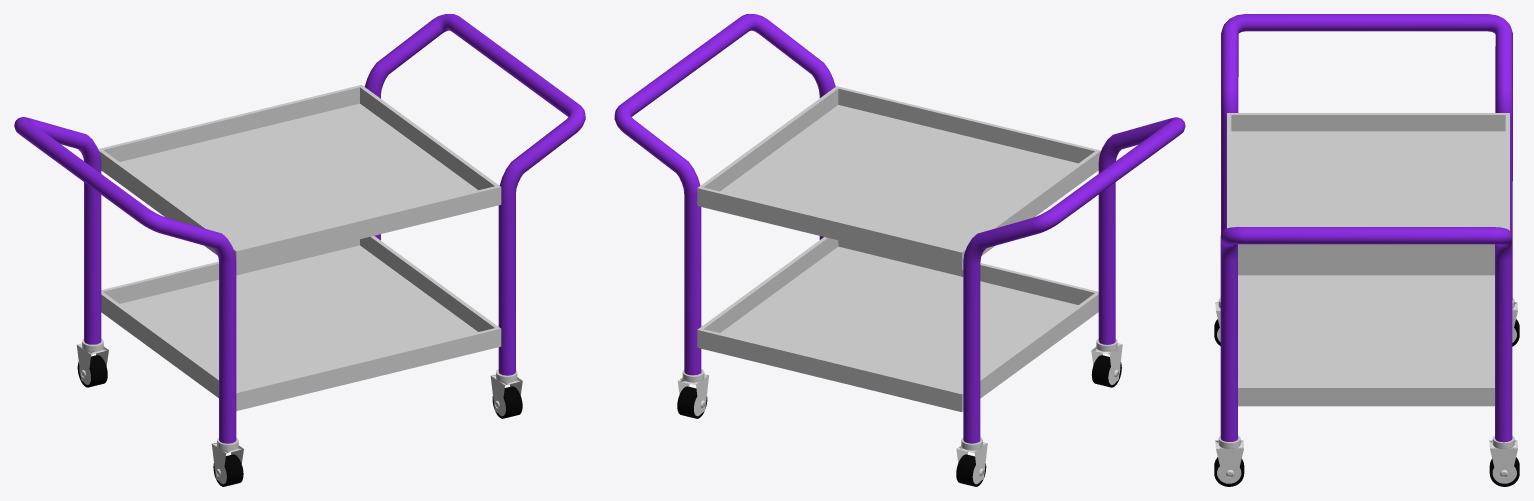
File: cart.fbx
The picture shows the model from 3 angles, left to right: view 1: azimuth 30°, elevation 25°; view 2: azimuth 150°, elevation 25°; view 3: azimuth 270°, elevation 25°; orthographic projection.
Visible parts, largest first — view 1: 큐브; view 2: 큐브; view 3: 큐브.
Part boxes in pixels (x1,y1,x2,y2): 큐브: [14, 14, 585, 486]; 큐브: [614, 14, 1185, 486]; 큐브: [1214, 14, 1519, 486].
Bounding box in the file's own units: 225 × 139 × 132.
